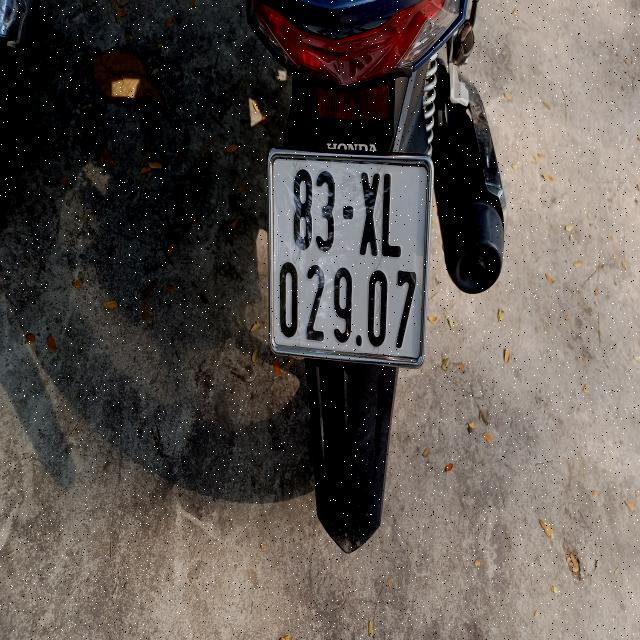0: (277, 260, 300, 337), (366, 267, 387, 347)
2: (306, 261, 325, 343)
3: (315, 170, 337, 258)
7: (396, 268, 418, 354)
8: (292, 167, 315, 251)
9: (334, 261, 353, 344)
L: (381, 169, 403, 260)
X: (361, 168, 379, 260)
